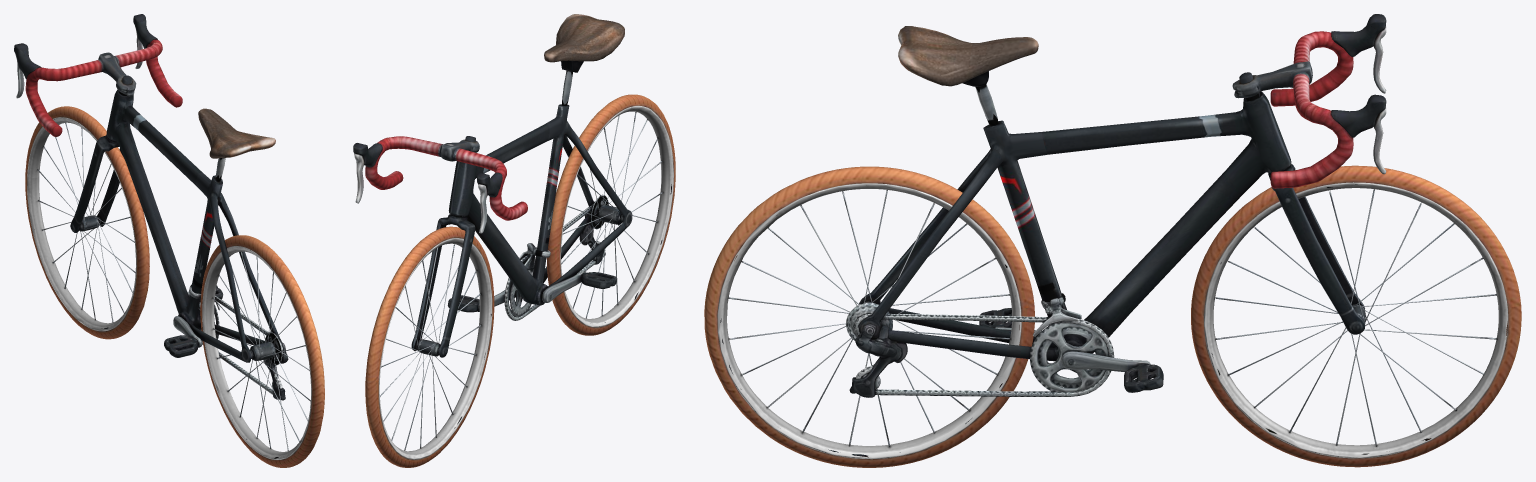
The model's file is bike.glb.
3 views of the same model, side by side, from view 1: azimuth 30°, elevation 25°; view 2: azimuth 150°, elevation 25°; view 3: azimuth 270°, elevation 25° (orthographic). The views are drawn at different scales.
Parts seen in each view (by area): view 1: 10489_bicycle_L2; view 2: 10489_bicycle_L2; view 3: 10489_bicycle_L2.
Boxes of the visible parts, bbox=[...] form: 10489_bicycle_L2: bbox=[14, 14, 324, 467]; 10489_bicycle_L2: bbox=[353, 14, 675, 467]; 10489_bicycle_L2: bbox=[704, 14, 1521, 467].
Bounding box in the file's own units: 50.65 × 115 × 198.
1 material, 1 textured.
